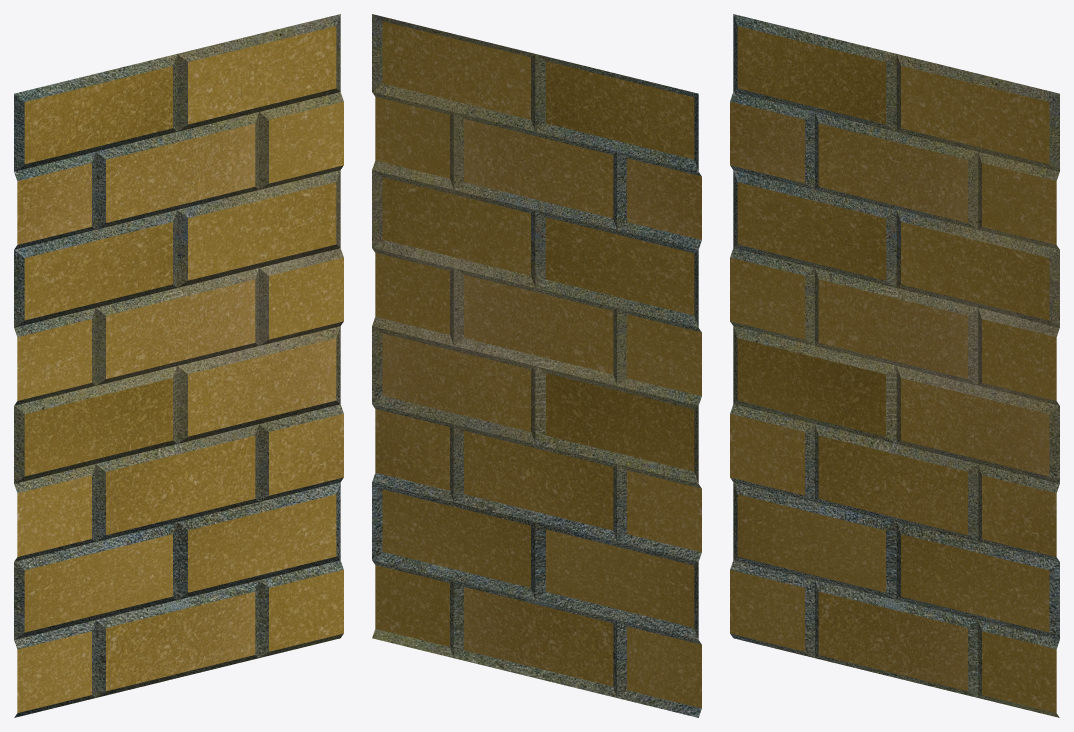
Rendered from Parede1Tile.fbx.
3 views of the same model, side by side, from view 1: azimuth 30°, elevation 25°; view 2: azimuth 150°, elevation 25°; view 3: azimuth 330°, elevation 25° (orthographic).
Visible parts, largest first — view 1: Plano.002; view 2: Plano.002; view 3: Plano.002.
Boxes of the visible parts, bbox=[...] form: Plano.002: bbox=[14, 14, 343, 717]; Plano.002: bbox=[372, 14, 701, 717]; Plano.002: bbox=[730, 14, 1059, 717].
Size of the model in its own units: 2925 by 5343 by 50.34.
